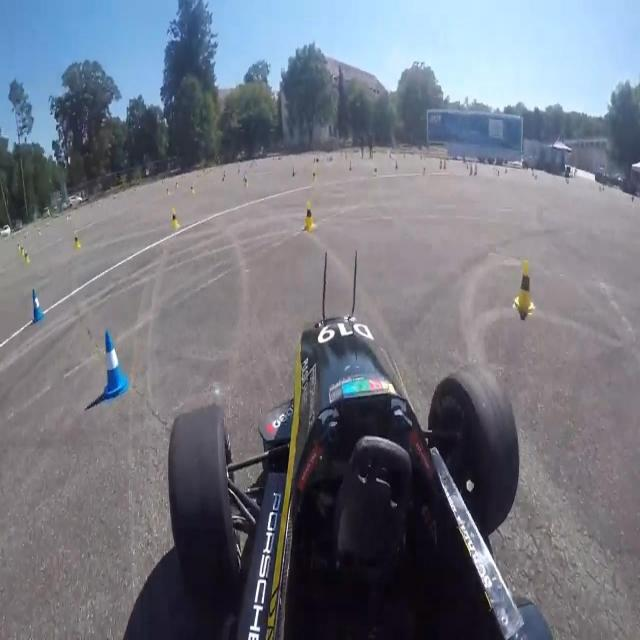blue_cone: (100, 328, 130, 399), (29, 284, 48, 324)
yellow_cone: (513, 258, 536, 317), (303, 199, 315, 231), (170, 206, 180, 229), (73, 231, 81, 253)
